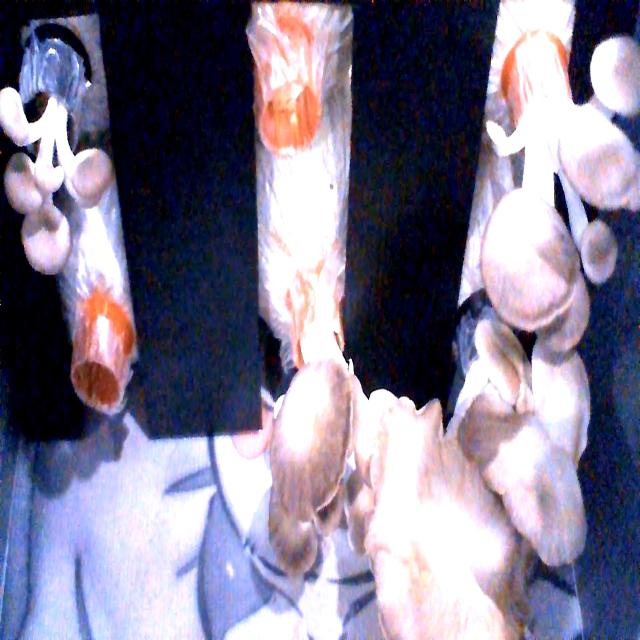big: (357, 364, 584, 640), (484, 41, 640, 368), (247, 338, 384, 572)
nfound: (254, 77, 323, 166), (74, 347, 136, 446)
small: (0, 84, 115, 283)
